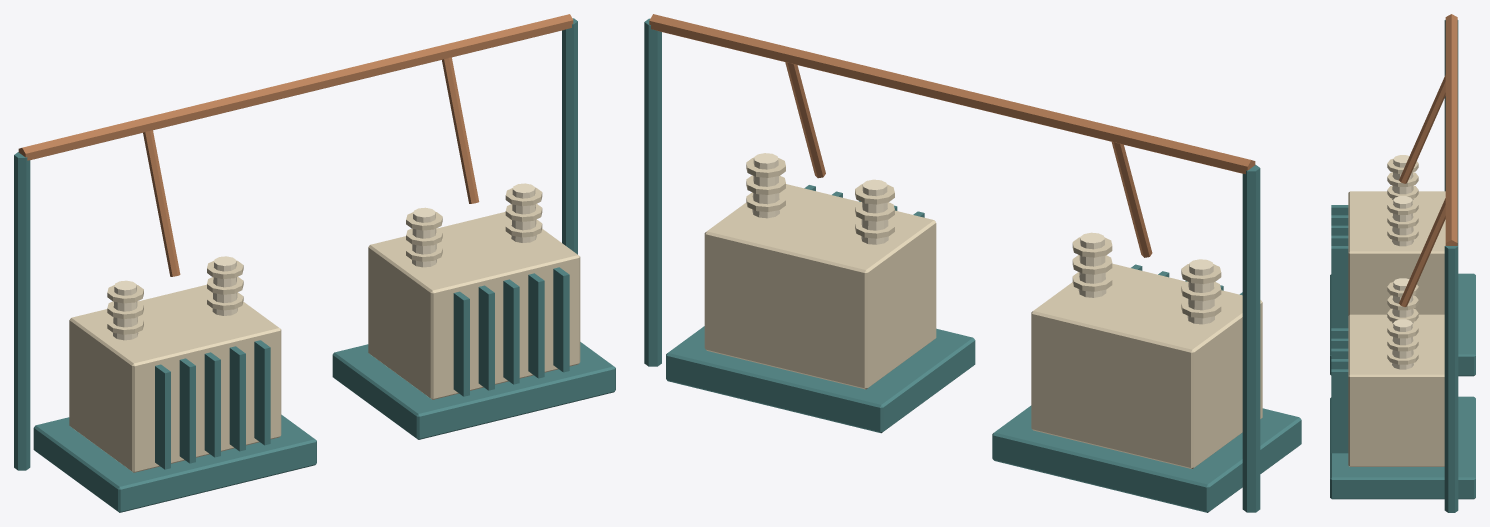
File: hsc3_substation.glb
The picture shows the model from 3 angles, left to right: view 1: azimuth 30°, elevation 25°; view 2: azimuth 150°, elevation 25°; view 3: azimuth 270°, elevation 25°; orthographic projection. The views are drawn at different scales.
Visible parts, largest first — view 1: hsc3_substation__hsc3-cream-enamel, hsc3_substation__hsc3-deep-teal, hsc3_substation__hsc3-roasted-copper, hsc3_substation__hsc3-pale-trim; view 2: hsc3_substation__hsc3-cream-enamel, hsc3_substation__hsc3-deep-teal, hsc3_substation__hsc3-roasted-copper, hsc3_substation__hsc3-pale-trim; view 3: hsc3_substation__hsc3-cream-enamel, hsc3_substation__hsc3-deep-teal, hsc3_substation__hsc3-roasted-copper, hsc3_substation__hsc3-pale-trim.
Boxes of the visible parts, box(x1,y1,x2,y2) form: hsc3_substation__hsc3-cream-enamel: box(69, 187, 580, 472); hsc3_substation__hsc3-deep-teal: box(14, 18, 615, 512); hsc3_substation__hsc3-roasted-copper: box(18, 14, 573, 276); hsc3_substation__hsc3-pale-trim: box(113, 183, 536, 340); hsc3_substation__hsc3-cream-enamel: box(704, 157, 1262, 468); hsc3_substation__hsc3-deep-teal: box(644, 18, 1301, 512); hsc3_substation__hsc3-roasted-copper: box(649, 14, 1255, 257); hsc3_substation__hsc3-pale-trim: box(752, 153, 1214, 324); hsc3_substation__hsc3-cream-enamel: box(1348, 159, 1445, 466); hsc3_substation__hsc3-deep-teal: box(1330, 20, 1475, 512); hsc3_substation__hsc3-roasted-copper: box(1399, 14, 1457, 306); hsc3_substation__hsc3-pale-trim: box(1392, 155, 1413, 369).
Size of the model in its own units: 22.48 by 12.28 by 6.
